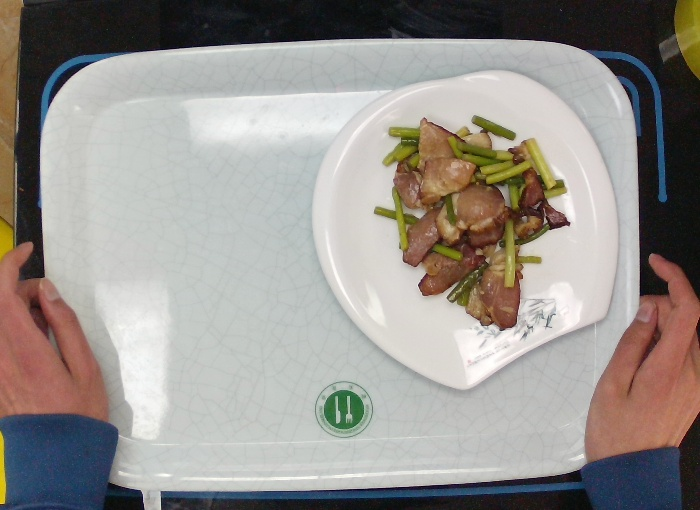JYsf-Mian_Pan: (304, 64, 623, 395)
